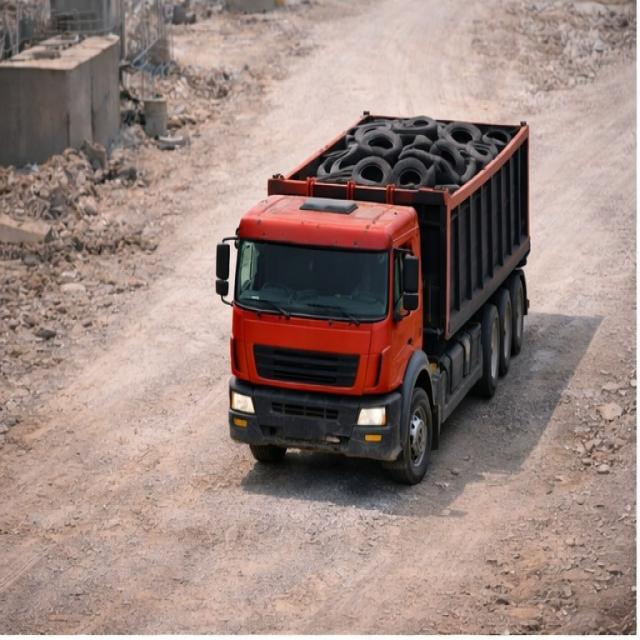Box: (265, 110, 534, 196)
Truck: (212, 105, 542, 462)
